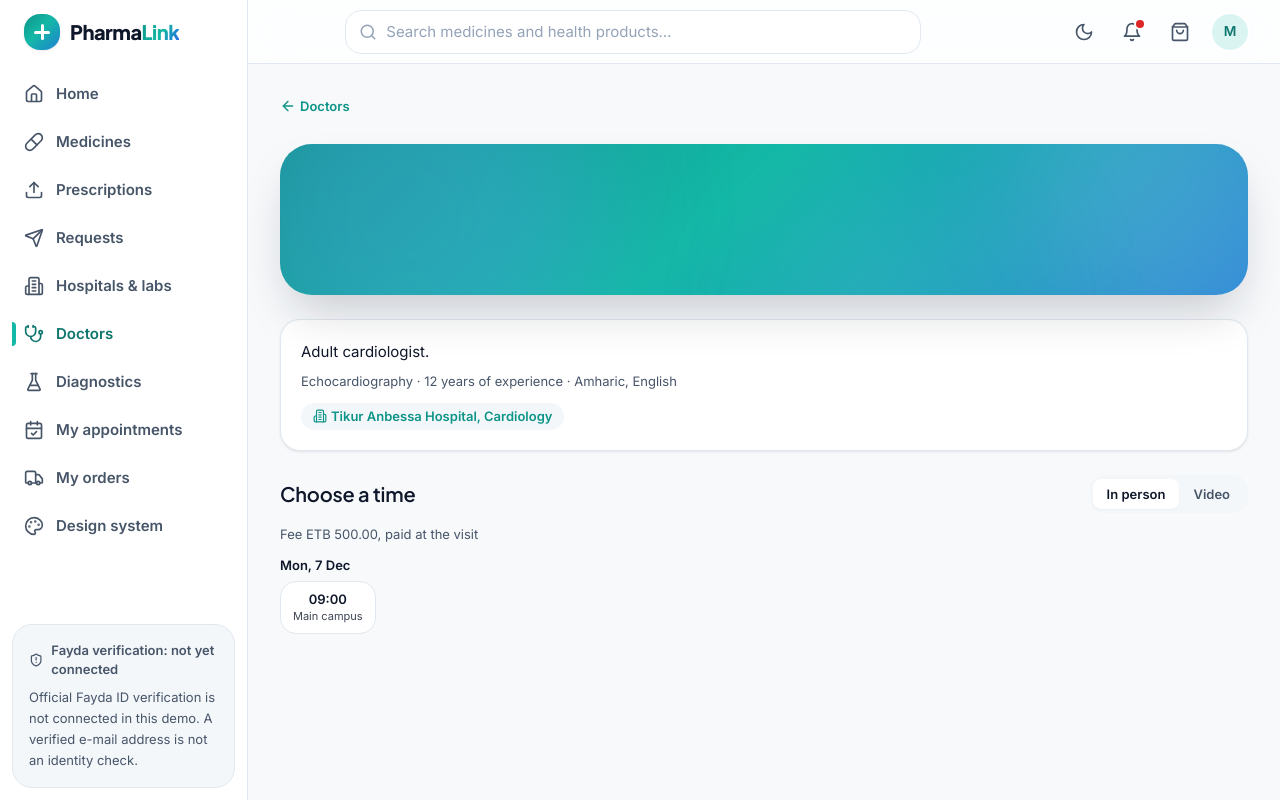
it: doctors in the app (Work 171) › books a time with a reason and shows it in My appointments
Step 1. Click the button "09:00 Main campus" → x=328, y=608, box [280,581,376,634]
(page scrolled)
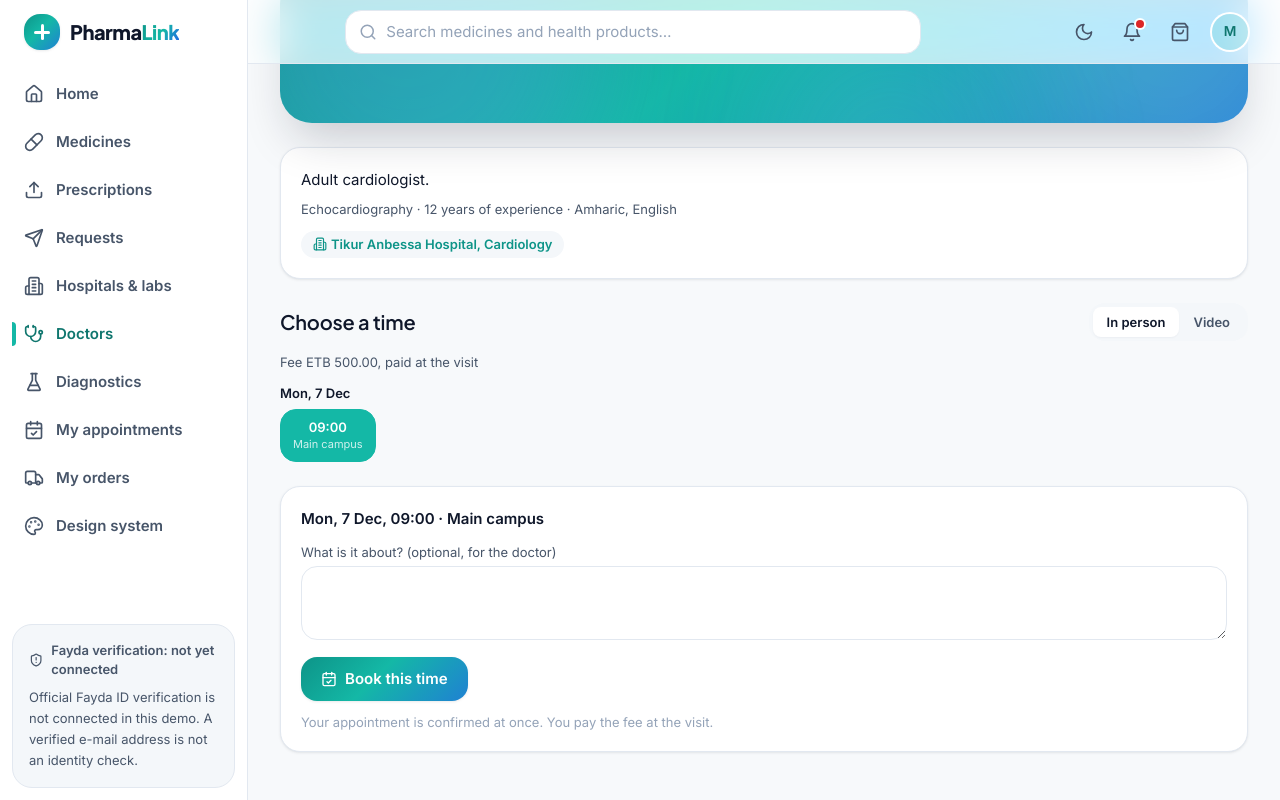
Step 2. Type "Chest pain" into the text box labelled "What is it about? (optional, for the doctor)" → x=764, y=603, box [301,566,1227,640]
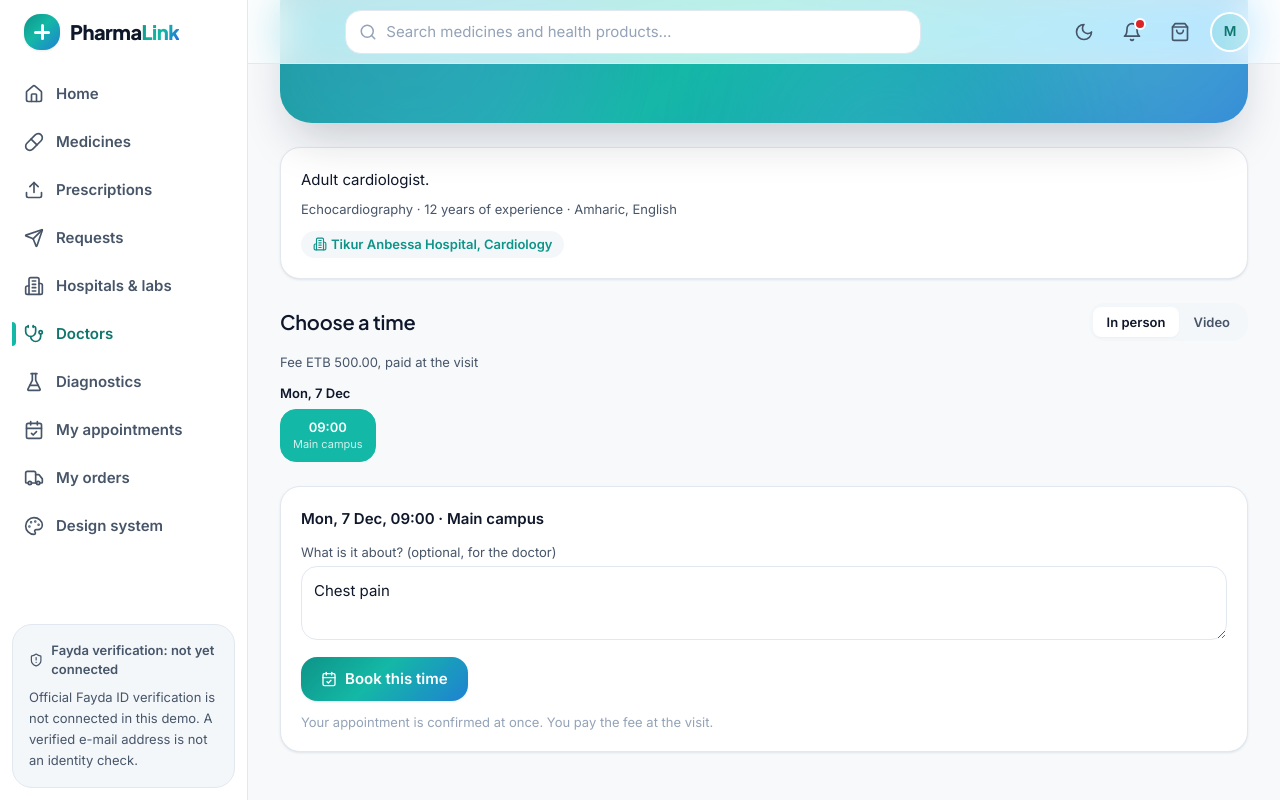
Step 3. Click the button "Book this time" → x=384, y=678, box [301,656,468,700]
(page scrolled)
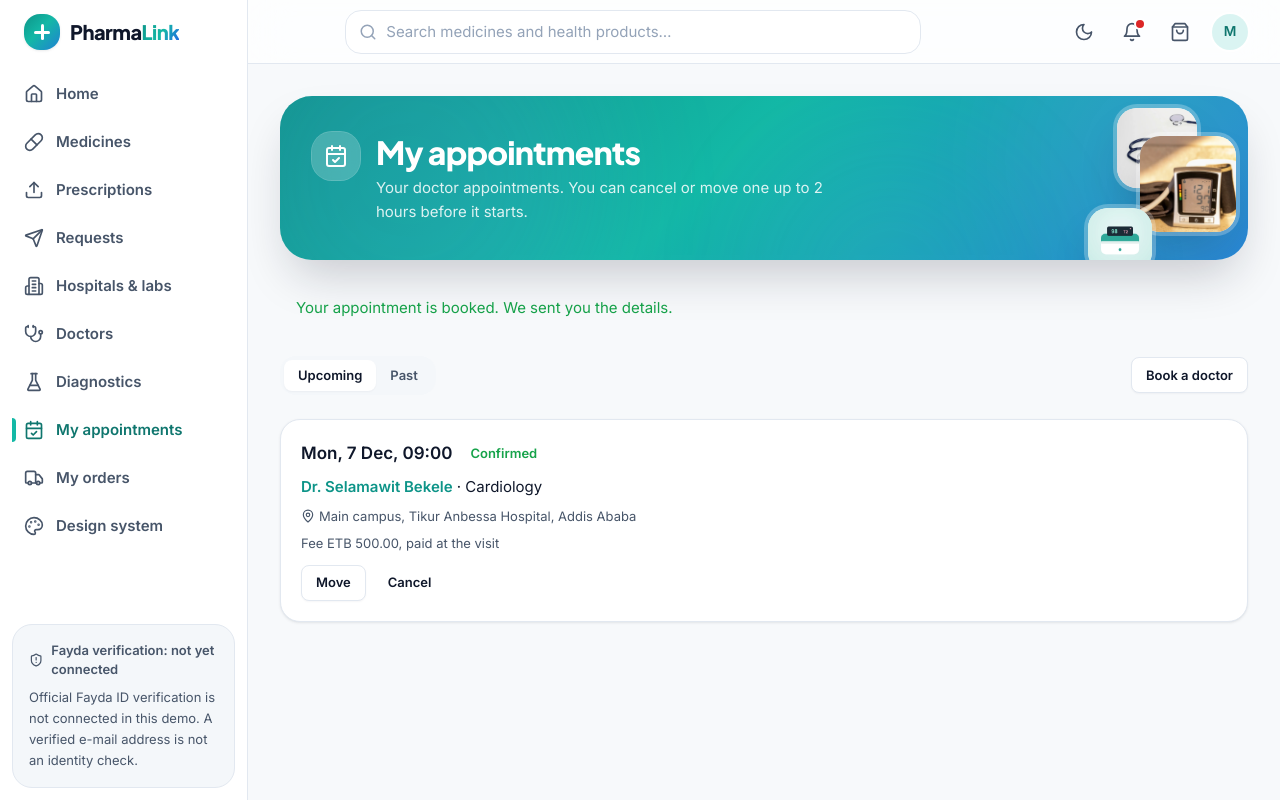
Expected: the text "Fee ETB 500.00, paid at the visit" is shown, [301,535,499,551]
Expected: the text "Your appointment is booked. We sent you the details." is shown, [296,298,673,317]
